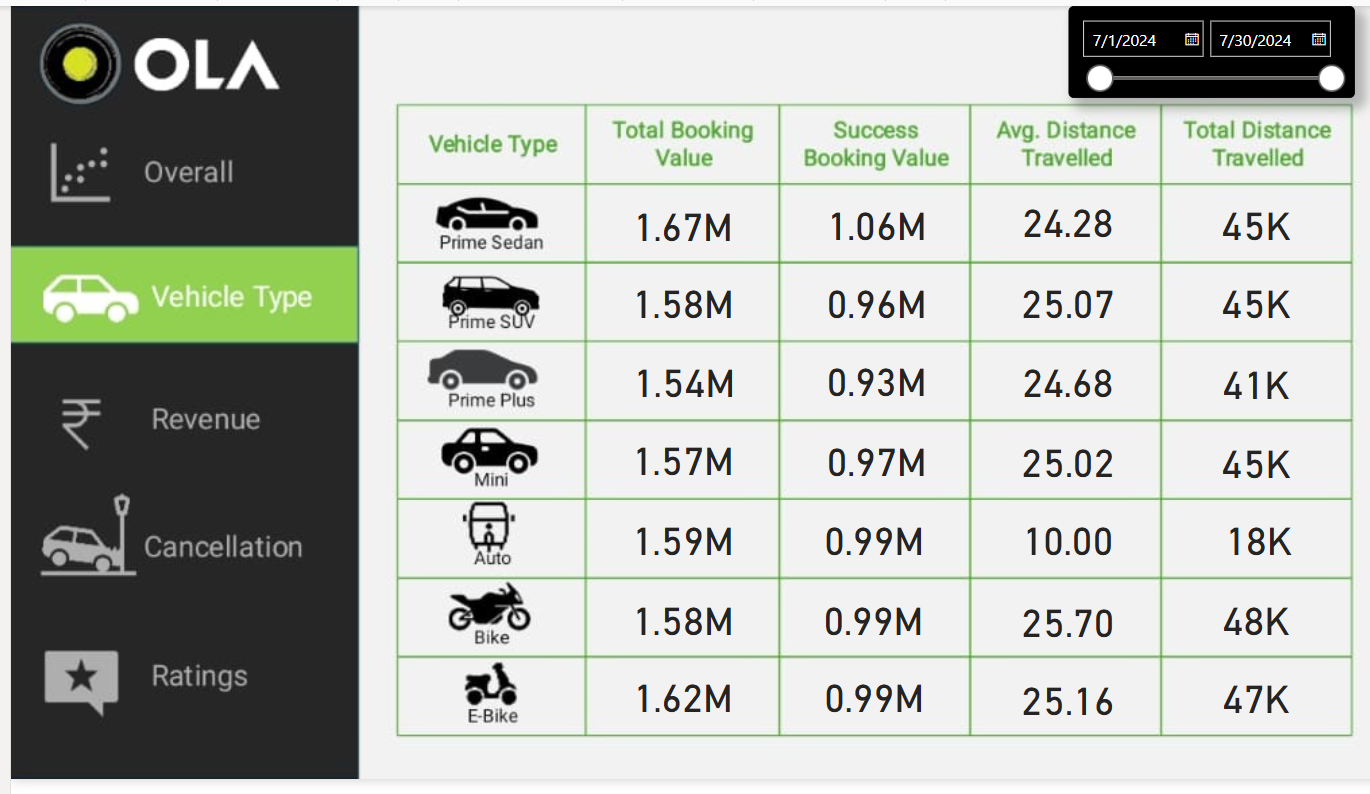

The page's visual inventory and layout, read from the dashboard file:
{"tool":"powerbi","page":{"name":"Vehicle Type","canvas":[1280,720],"ordinal":1},"visuals":[{"type":"actionButton","box":[0,337.8,324.5,91.7],"z":0},{"type":"actionButton","box":[0,450,323.3,91.7],"z":1000},{"type":"actionButton","box":[0,109.8,323.3,90.5],"z":2000},{"type":"actionButton","box":[0,577.9,325.7,90.5],"z":3000},{"type":"card","fields":{"Values":["Sum(July_Cleaned.Booking_Value)"]},"box":[540.7,172.9,168.8,59],"z":4000},{"type":"card","fields":{"Values":["Sum(July_Cleaned.Booking_Value)"]},"box":[540.7,245.6,168.8,59],"z":5000},{"type":"card","fields":{"Values":["Sum(July_Cleaned.Booking_Value)"]},"box":[542,322.5,168.8,52.1],"z":6000},{"type":"card","fields":{"Values":["Sum(July_Cleaned.Booking_Value)"]},"box":[540.7,391.1,168.8,59],"z":7000},{"type":"card","fields":{"Values":["Sum(July_Cleaned.Booking_Value)"]},"box":[540.7,613.4,168.8,54.9],"z":8000},{"type":"card","fields":{"Values":["Sum(July_Cleaned.Booking_Value)"]},"box":[540.7,539.3,168.8,60.4],"z":9000},{"type":"card","fields":{"Values":["Sum(July_Cleaned.Booking_Value)"]},"box":[540.7,465.2,168.8,59],"z":10000},{"type":"card","fields":{"Values":["Sum(July_Cleaned.Booking_Value)"]},"box":[720.4,171.5,168.8,59],"z":11000},{"type":"card","fields":{"Values":["Sum(July_Cleaned.Booking_Value)"]},"box":[720.4,245.6,168.8,59],"z":12000},{"type":"card","fields":{"Values":["Sum(July_Cleaned.Booking_Value)"]},"box":[720.4,319.7,168.8,54.9],"z":13000},{"type":"card","fields":{"Values":["Sum(July_Cleaned.Booking_Value)"]},"box":[719,613.4,168.8,54.9],"z":14000},{"type":"card","fields":{"Values":["Sum(July_Cleaned.Booking_Value)"]},"box":[719,544.8,167.4,48],"z":15000},{"type":"card","fields":{"Values":["Sum(July_Cleaned.Booking_Value)"]},"box":[719,465.2,168.8,59],"z":16000},{"type":"card","fields":{"Values":["Sum(July_Cleaned.Booking_Value)"]},"box":[720.4,392.5,168.8,57.6],"z":17000},{"type":"card","fields":{"Values":["Avg(July_Cleaned.Ride_Distance)"]},"box":[898.8,170.2,168.8,59],"z":18000},{"type":"card","fields":{"Values":["Avg(July_Cleaned.Ride_Distance)"]},"box":[898.8,245.6,168.8,59],"z":19000},{"type":"card","fields":{"Values":["Avg(July_Cleaned.Ride_Distance)"]},"box":[898.8,318.4,168.8,59],"z":20000},{"type":"card","fields":{"Values":["Avg(July_Cleaned.Ride_Distance)"]},"box":[898.8,392.5,168.8,59],"z":21000},{"type":"card","fields":{"Values":["Avg(July_Cleaned.Ride_Distance)"]},"box":[898.8,465.2,168.8,59],"z":22000},{"type":"card","fields":{"Values":["Avg(July_Cleaned.Ride_Distance)"]},"box":[898.8,542,168.8,59],"z":23000},{"type":"card","fields":{"Values":["Avg(July_Cleaned.Ride_Distance)"]},"box":[898.8,613.4,168.8,59],"z":24000},{"type":"card","fields":{"Values":["Sum(July_Cleaned.Ride_Distance)"]},"box":[1077.2,171.5,163.3,60.4],"z":25000},{"type":"card","fields":{"Values":["Sum(July_Cleaned.Ride_Distance)"]},"box":[1077.2,244.3,163.3,60.4],"z":26000},{"type":"card","fields":{"Values":["Sum(July_Cleaned.Ride_Distance)"]},"box":[1077.2,319.7,163.3,60.4],"z":27000},{"type":"card","fields":{"Values":["Sum(July_Cleaned.Ride_Distance)"]},"box":[1077.2,392.5,163.3,60.4],"z":28000},{"type":"card","fields":{"Values":["Sum(July_Cleaned.Ride_Distance)"]},"box":[1078.6,465.2,163.3,60.4],"z":29000},{"type":"card","fields":{"Values":["Sum(July_Cleaned.Ride_Distance)"]},"box":[1077.2,539.3,163.3,60.4],"z":30000},{"type":"card","fields":{"Values":["Sum(July_Cleaned.Ride_Distance)"]},"box":[1077.2,612,163.3,60.4],"z":31000},{"type":"slicer","title":"Date","fields":{"Values":["July_Cleaned.Date"]},"box":[983.2,0,266.6,85.7],"z":32000}]}

Visuals, with their boxes on the page's 1280x720 design canvas (x1, y1, x2, y2). These are canvas units, not pixel positions in the 1370x794 screenshot, which may show the page scaled, cropped or inside an application window:
actionButton: box=[0, 338, 324, 430]
actionButton: box=[0, 450, 323, 542]
actionButton: box=[0, 110, 323, 200]
actionButton: box=[0, 578, 326, 668]
card - Sum(July_Cleaned.Booking_Value): box=[541, 173, 710, 232]
card - Sum(July_Cleaned.Booking_Value): box=[541, 246, 710, 305]
card - Sum(July_Cleaned.Booking_Value): box=[542, 322, 711, 375]
card - Sum(July_Cleaned.Booking_Value): box=[541, 391, 710, 450]
card - Sum(July_Cleaned.Booking_Value): box=[541, 613, 710, 668]
card - Sum(July_Cleaned.Booking_Value): box=[541, 539, 710, 600]
card - Sum(July_Cleaned.Booking_Value): box=[541, 465, 710, 524]
card - Sum(July_Cleaned.Booking_Value): box=[720, 172, 889, 230]
card - Sum(July_Cleaned.Booking_Value): box=[720, 246, 889, 305]
card - Sum(July_Cleaned.Booking_Value): box=[720, 320, 889, 375]
card - Sum(July_Cleaned.Booking_Value): box=[719, 613, 888, 668]
card - Sum(July_Cleaned.Booking_Value): box=[719, 545, 886, 593]
card - Sum(July_Cleaned.Booking_Value): box=[719, 465, 888, 524]
card - Sum(July_Cleaned.Booking_Value): box=[720, 392, 889, 450]
card - Avg(July_Cleaned.Ride_Distance): box=[899, 170, 1068, 229]
card - Avg(July_Cleaned.Ride_Distance): box=[899, 246, 1068, 305]
card - Avg(July_Cleaned.Ride_Distance): box=[899, 318, 1068, 377]
card - Avg(July_Cleaned.Ride_Distance): box=[899, 392, 1068, 452]
card - Avg(July_Cleaned.Ride_Distance): box=[899, 465, 1068, 524]
card - Avg(July_Cleaned.Ride_Distance): box=[899, 542, 1068, 601]
card - Avg(July_Cleaned.Ride_Distance): box=[899, 613, 1068, 672]
card - Sum(July_Cleaned.Ride_Distance): box=[1077, 172, 1240, 232]
card - Sum(July_Cleaned.Ride_Distance): box=[1077, 244, 1240, 305]
card - Sum(July_Cleaned.Ride_Distance): box=[1077, 320, 1240, 380]
card - Sum(July_Cleaned.Ride_Distance): box=[1077, 392, 1240, 453]
card - Sum(July_Cleaned.Ride_Distance): box=[1079, 465, 1242, 526]
card - Sum(July_Cleaned.Ride_Distance): box=[1077, 539, 1240, 600]
card - Sum(July_Cleaned.Ride_Distance): box=[1077, 612, 1240, 672]
"Date" slicer: box=[983, 0, 1250, 86]
